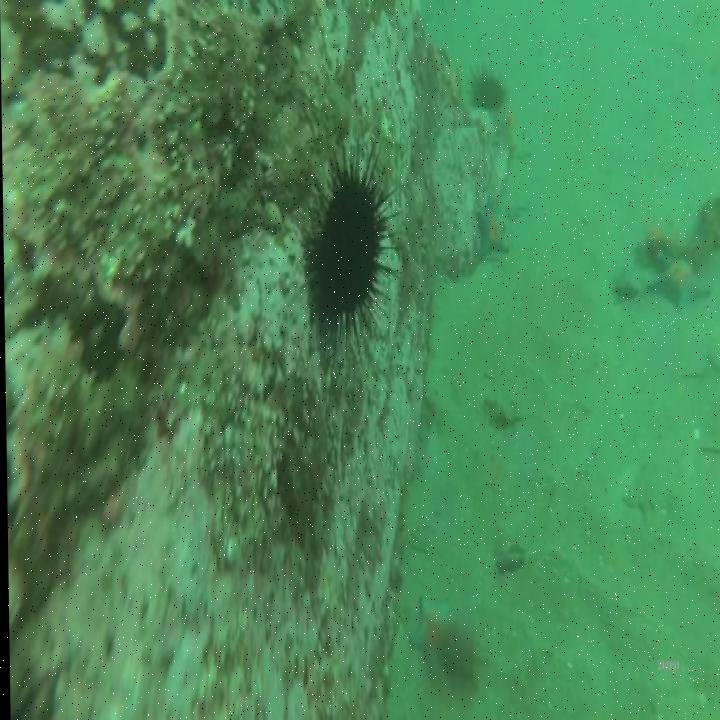echinus: (310, 178, 383, 313), (469, 76, 503, 106)
starfish: (647, 249, 711, 313), (409, 596, 450, 678), (477, 197, 507, 258)
